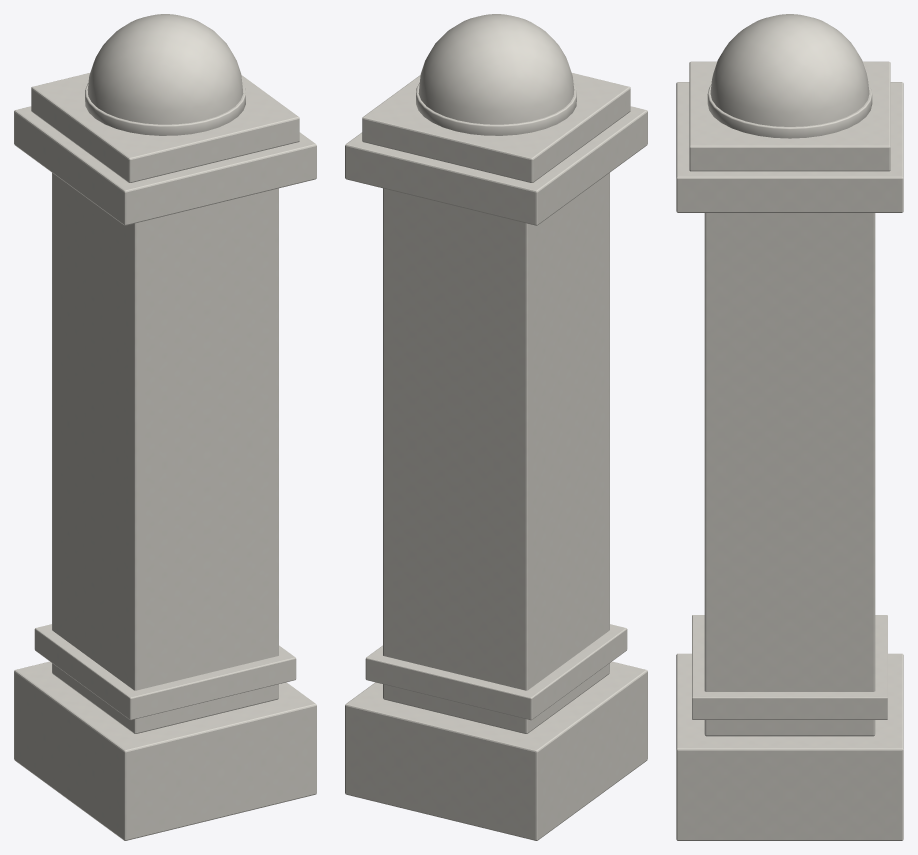
File: OAR_Wall_Pier_Universal_1p5m.fbx
The picture shows the model from 3 angles, left to right: view 1: azimuth 30°, elevation 25°; view 2: azimuth 150°, elevation 25°; view 3: azimuth 270°, elevation 25°; orthographic projection. The views are drawn at different scales.
Parts seen in each view (by area): view 1: Body; view 2: Body; view 3: Body.
Part boxes in pixels (left/top/right/bottom): Body: left=14, top=14, right=316, bottom=840; Body: left=345, top=14, right=647, bottom=840; Body: left=676, top=14, right=903, bottom=840.
Bounding box in the file's own units: 0.4 × 1.5 × 0.4.
